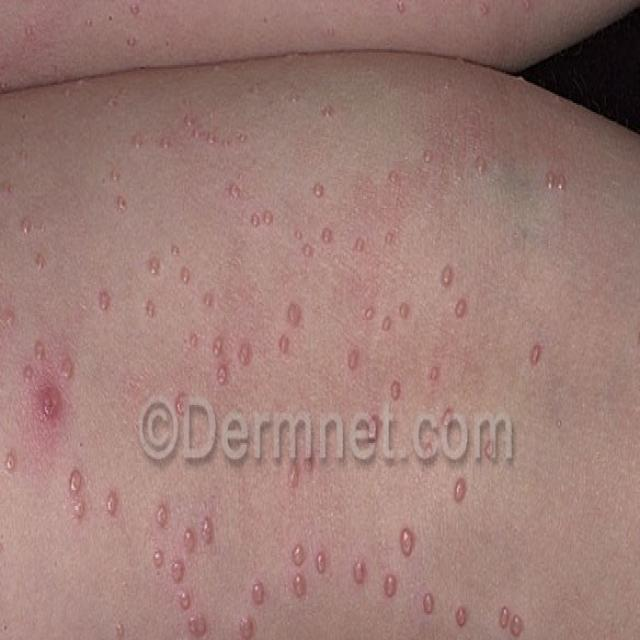Viral Infections: (369, 275, 578, 501), (242, 511, 548, 640), (98, 276, 356, 415), (214, 151, 385, 263), (150, 490, 227, 640), (24, 326, 91, 445), (250, 429, 348, 501), (0, 171, 61, 280), (158, 82, 232, 170), (59, 452, 127, 547), (96, 135, 147, 233), (536, 143, 585, 225), (104, 587, 143, 640), (1, 447, 27, 490), (0, 562, 14, 633), (630, 302, 640, 358)
